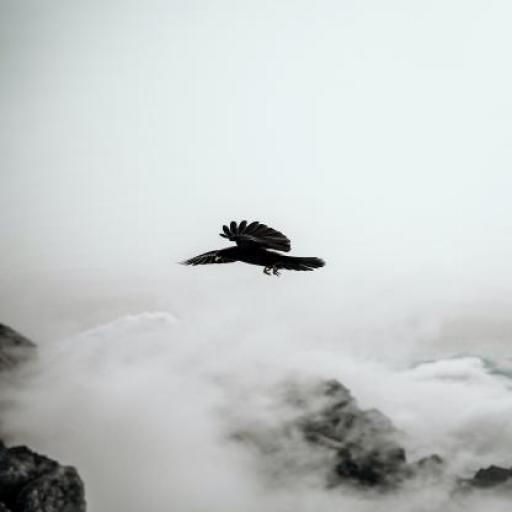bird: (183, 220, 327, 276)
